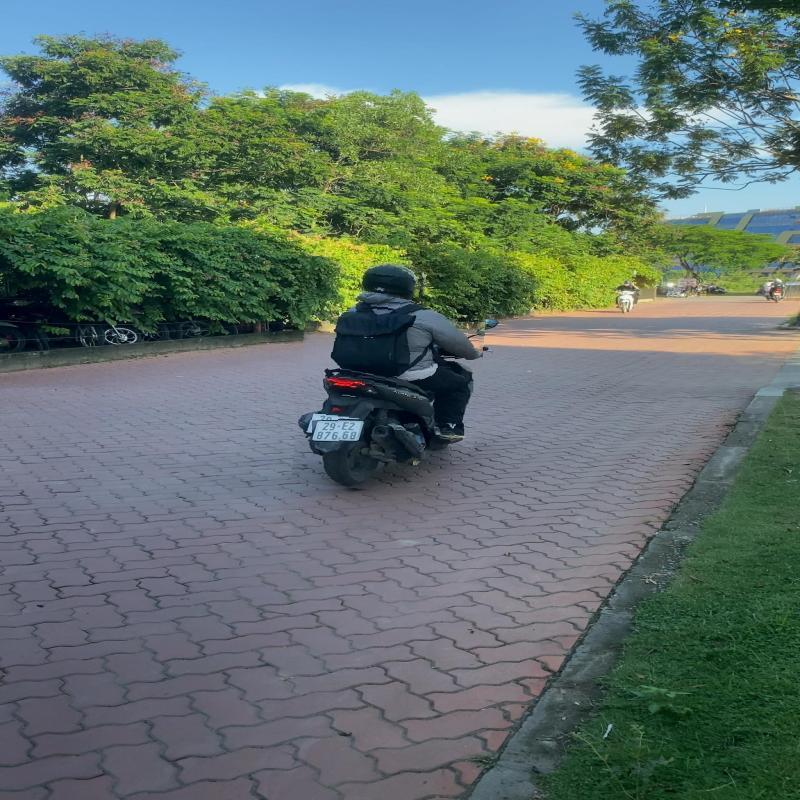helmet: (360, 261, 422, 299)
licenseplate: (312, 420, 364, 442)
motorcyclist: (297, 260, 486, 495)
